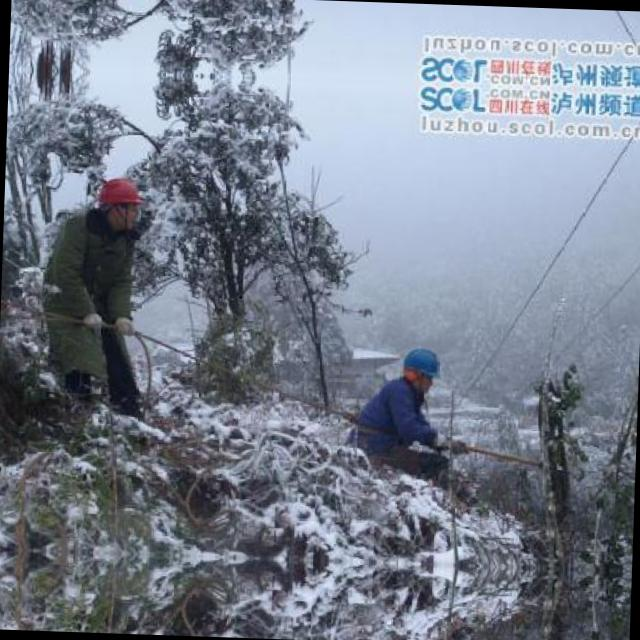helmet: (92, 172, 146, 229), (398, 344, 442, 392)
